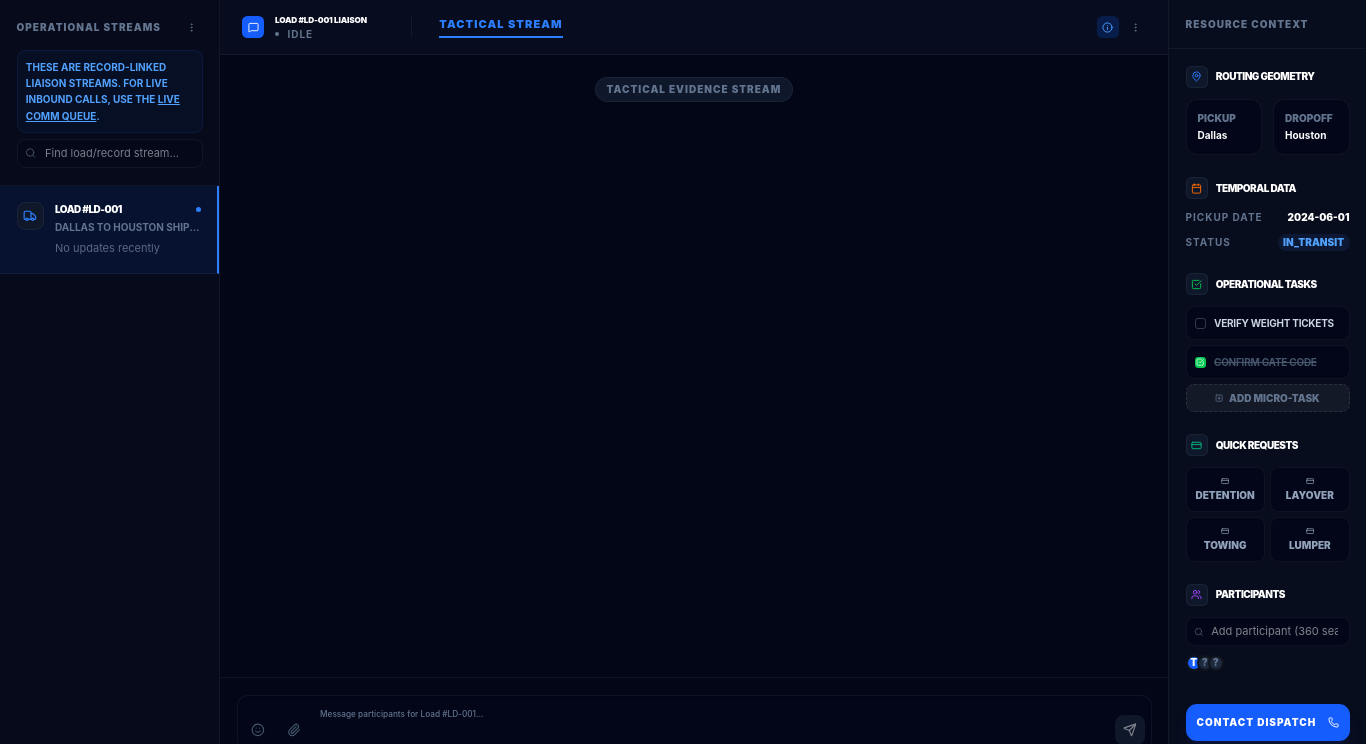
it: OperationalMessaging component › add micro-task flow (lines 769-776) › adds a new task when Enter is pressed in the task input
Click the button "Add Micro-Task": coordinates (1268, 398) [1186,384,1350,412]
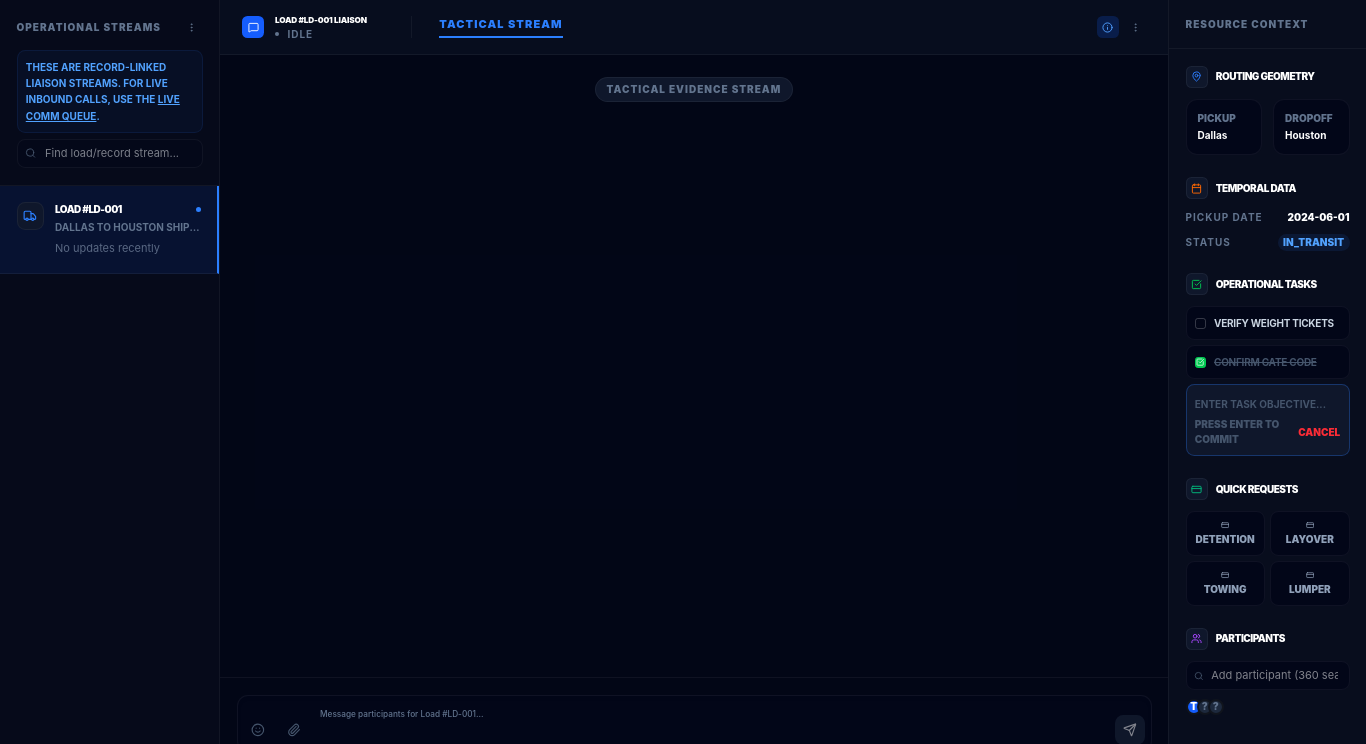
In the field with placeholder "Enter task objective...": coordinates (1268, 404) [1195,396,1340,412], type "Check tire pressure"
Then press Enter
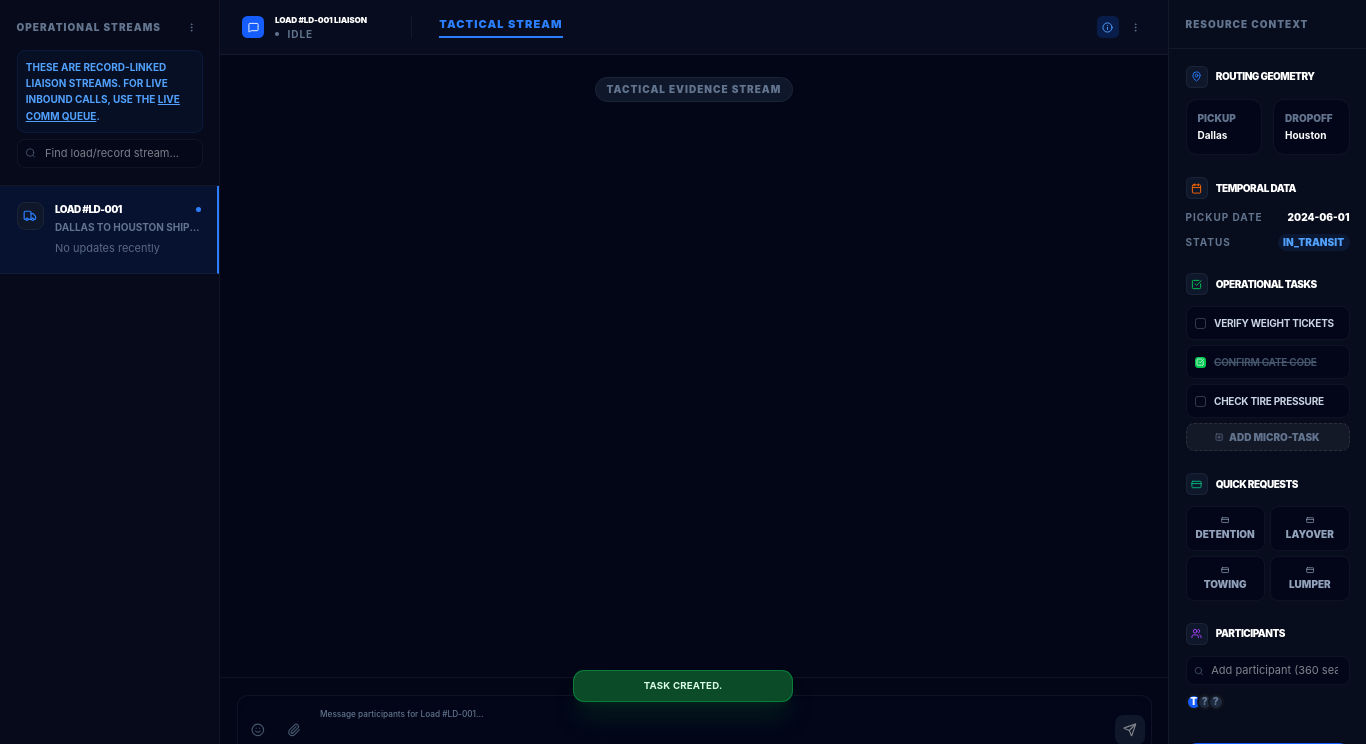
Expected: the text "Check tire pressure" is shown, [1214,394,1324,408]
